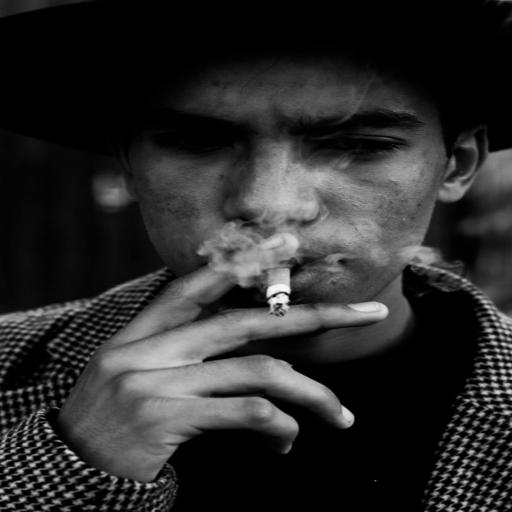terdeteksi merokok: (143, 94, 388, 338)
